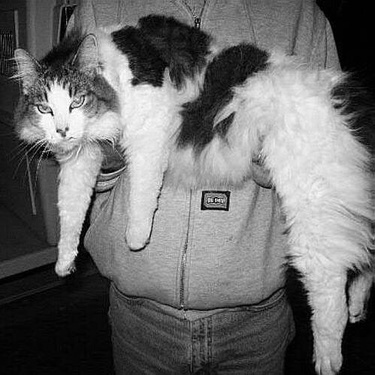cat: (13, 15, 370, 371)
